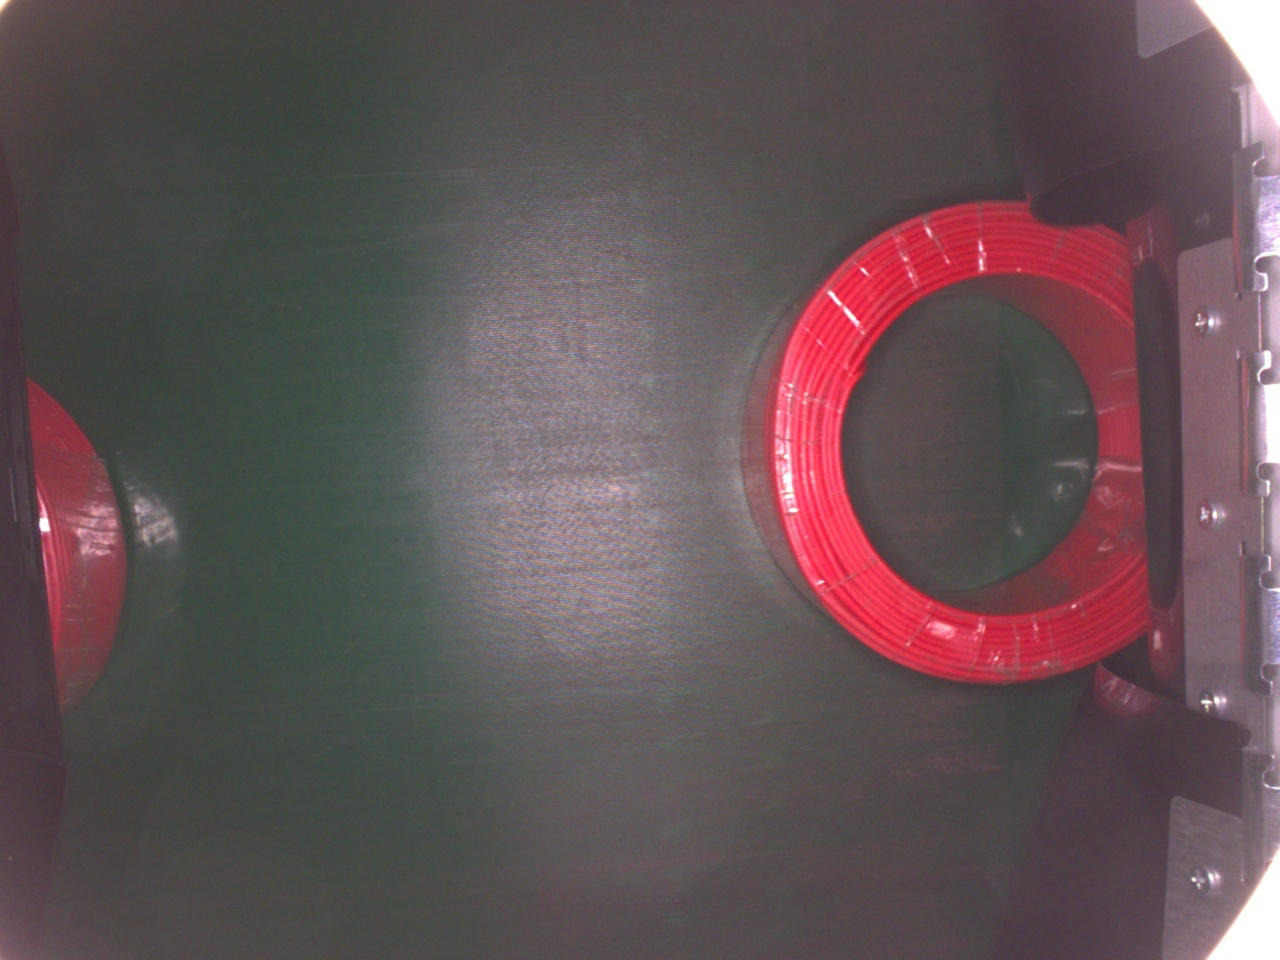red: (739, 196, 1154, 689)
